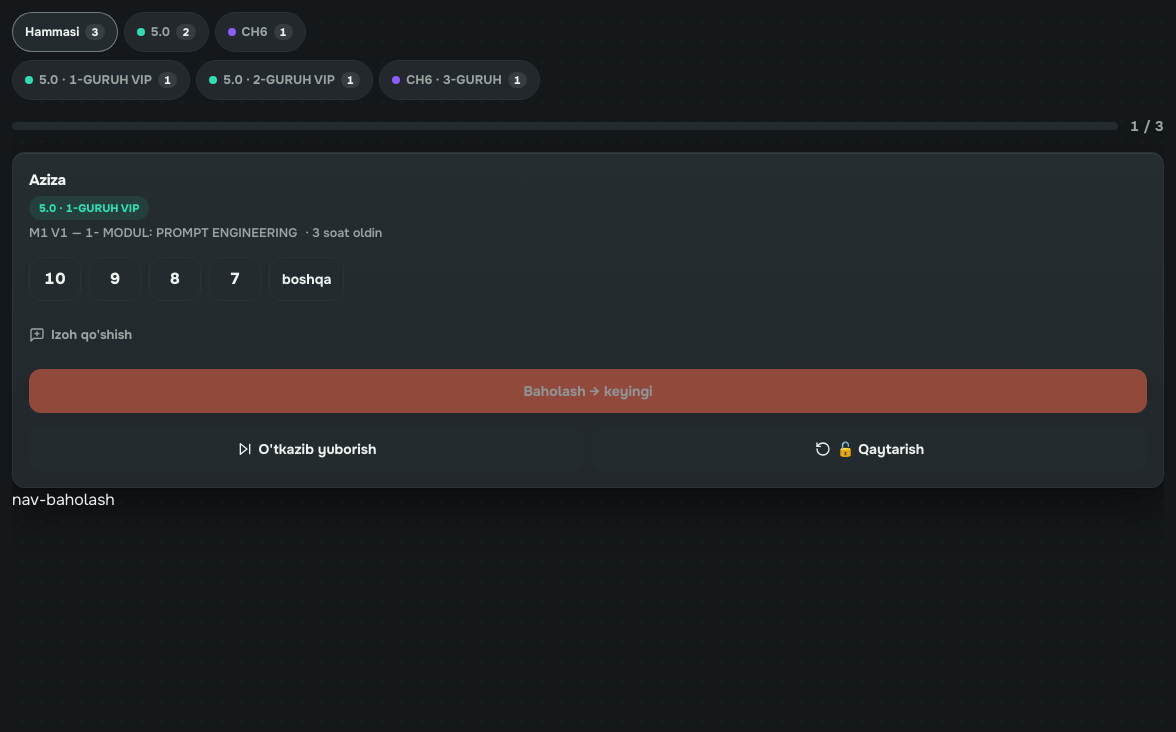
Test: TeacherGrade course + group filter › a group chip narrows to that group
expect the text "Aziza" is shown: met, box [29, 170, 66, 190]
What coordinates should you click on to do the following:
click the button with aria-label "5.0 · 2-GURUH VIP (1)"
I would click on:
 (285, 80)
Its box is [196, 60, 373, 100].
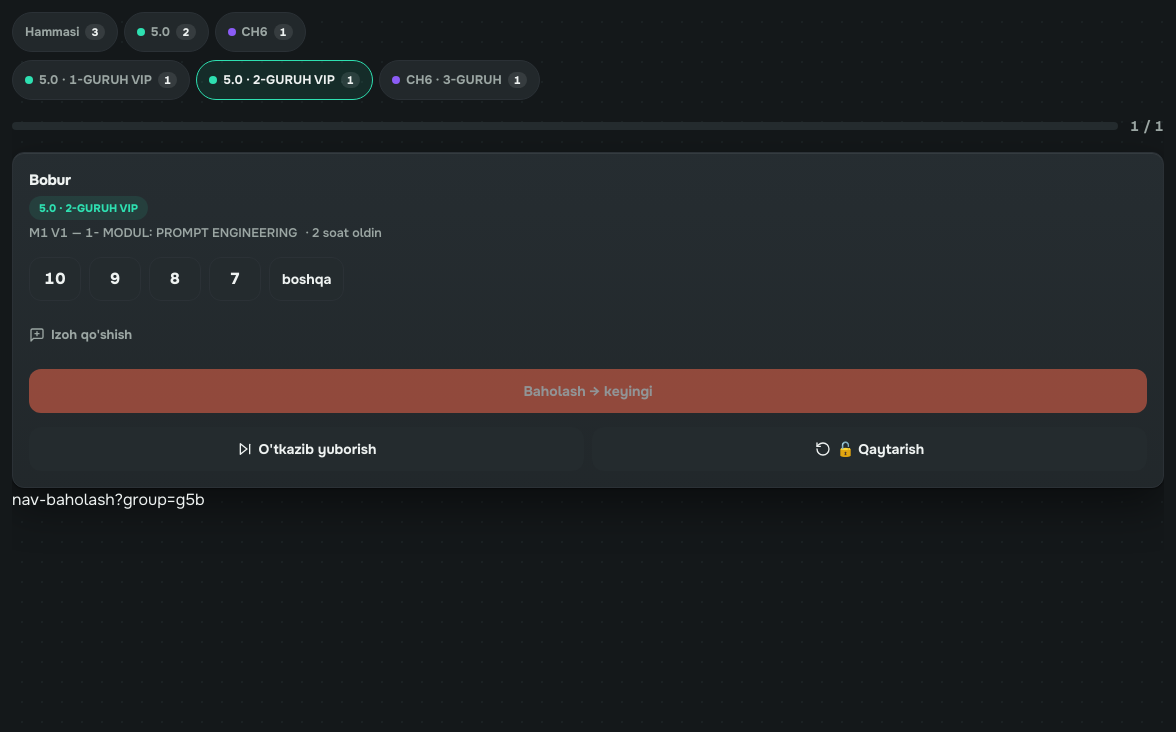
expect the text "Bobur" is shown: met, box [29, 170, 71, 190]
expect the text "1 / 1" is shown: met, box [1130, 116, 1164, 136]
